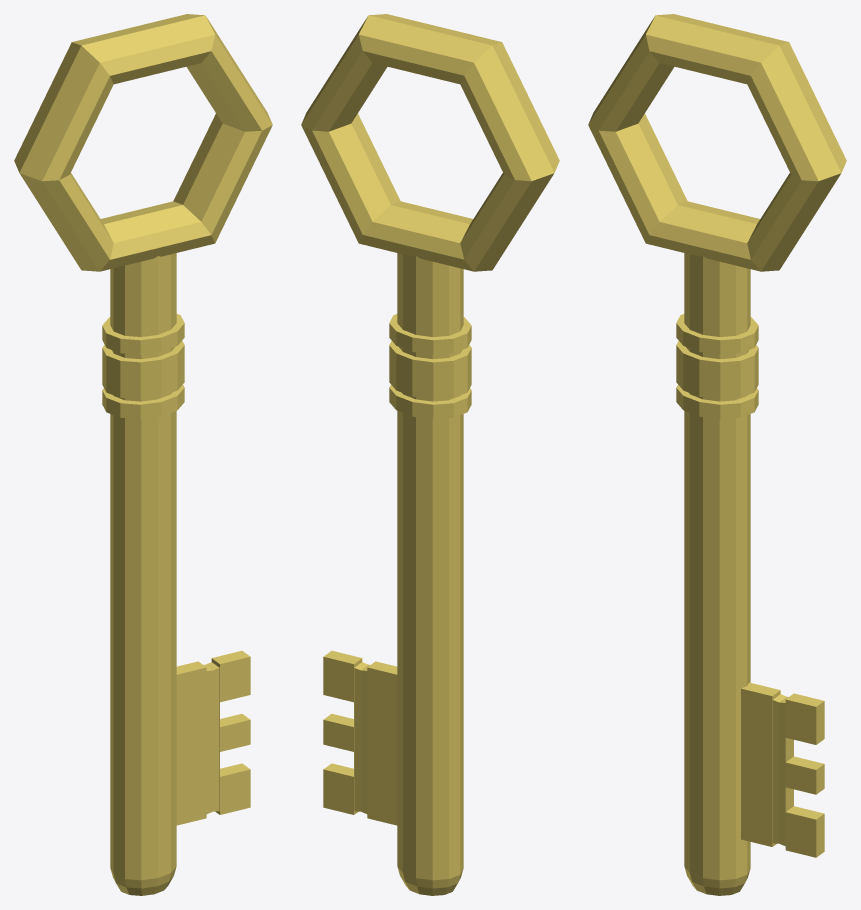
The model's file is key low poly.fbx.
3 renders of one model, left to right at view 1: azimuth 30°, elevation 25°; view 2: azimuth 150°, elevation 25°; view 3: azimuth 330°, elevation 25°, orthographic.
Visible parts, largest first — view 1: key; view 2: key; view 3: key.
Part boxes in pixels (x1,y1,x2,y2): key: (14, 14, 272, 895); key: (301, 14, 559, 895); key: (588, 14, 846, 895).
Size of the model in its own units: 78.46 by 259 by 19.85.
